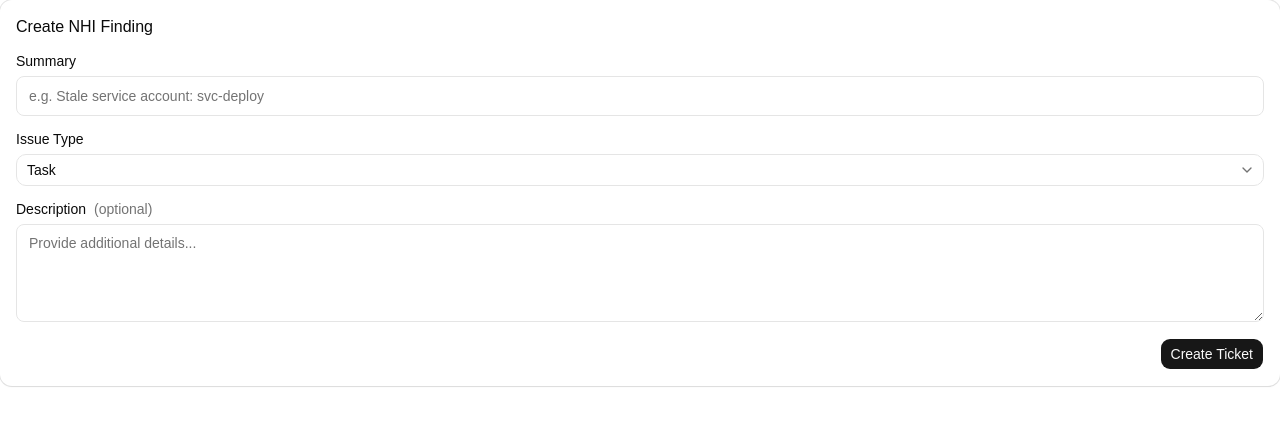
CreateTicketForm › summary required validation
Click the button "Create Ticket": (1212, 354) [1160,338,1264,370]
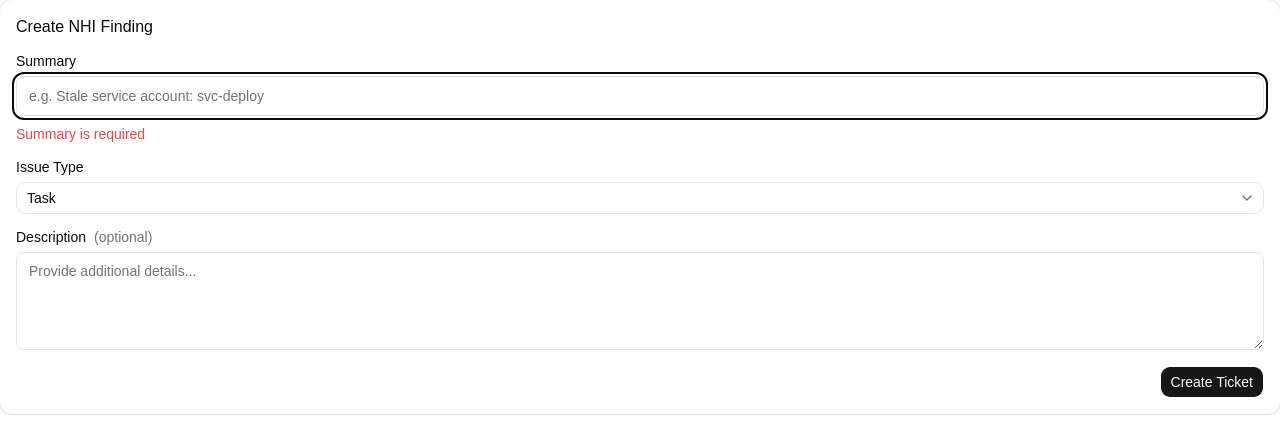
Now the text "Summary is required" is shown, box [16,126,145,142]
